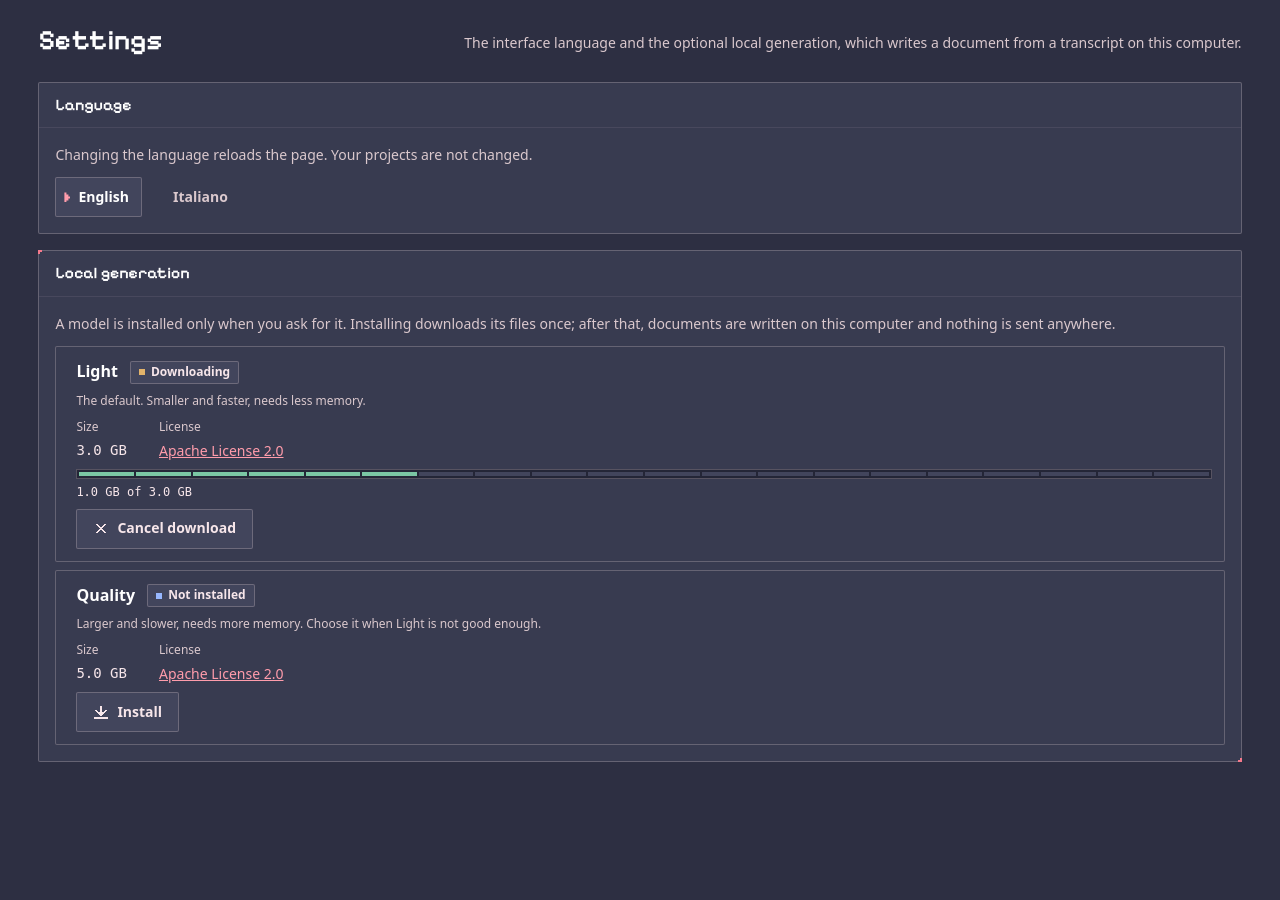
SettingsComponent › cancels a download and returns the model to not installed
Click the button "Cancel download": [165, 529] box [76,509,253,549]
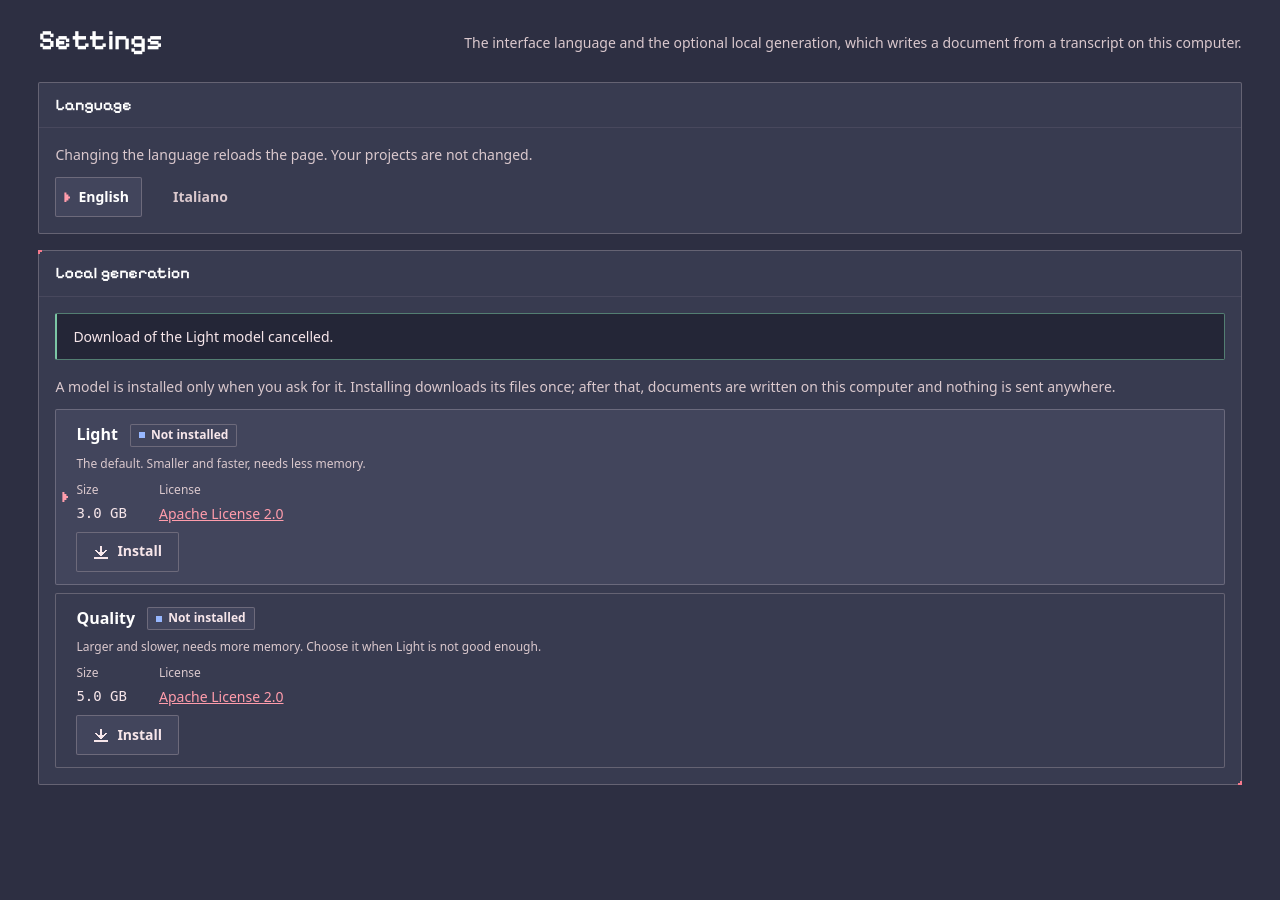
Result: the 1st text with class "ns-pill" reads "Not installed" at [151,426,228,443]
Result: the message "Download of the Light model cancelled." is shown at [55,313,1225,360]
